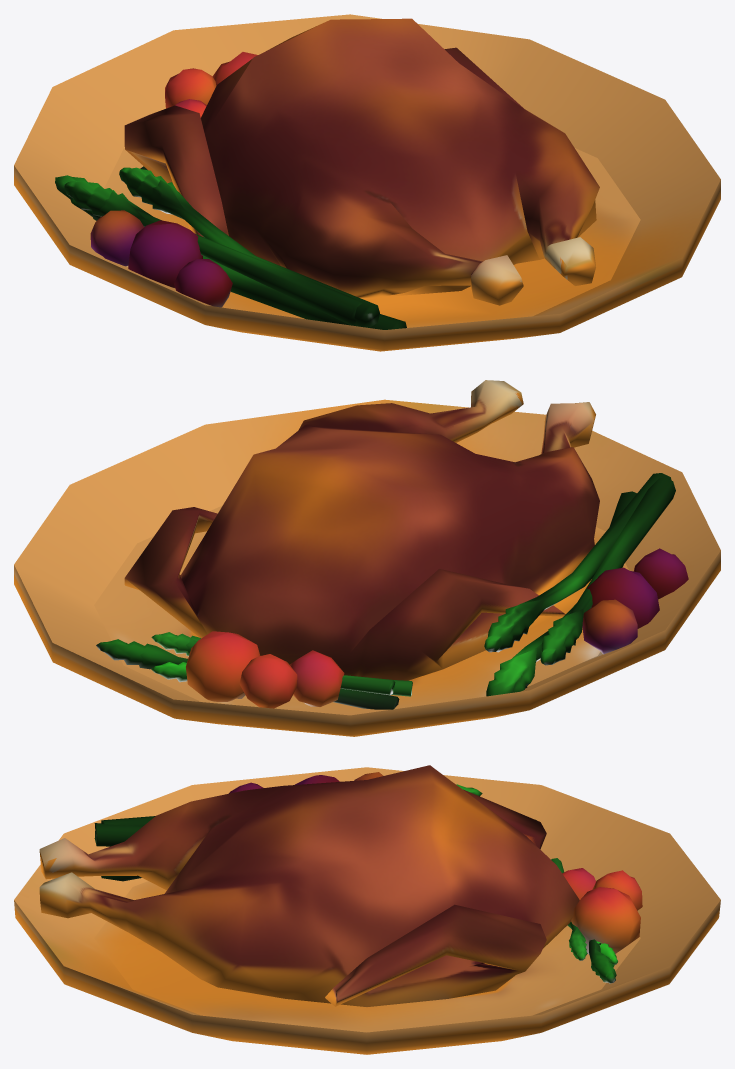
Rendered from Christmas_Goose.fbx.
The picture shows the model from 3 angles, top to bottom: view 1: azimuth 30°, elevation 25°; view 2: azimuth 150°, elevation 25°; view 3: azimuth 270°, elevation 25°; orthographic projection. The views are drawn at different scales.
Parts seen in each view (by area): view 1: Goose, AsparagusGroup2, polySurface4, Potato3, polySurface6, polySurface5; view 2: Goose, AsparagusGroup2, Potato3, polySurface3, polySurface4, polySurface6, polySurface5, polySurface1, polySurface2; view 3: Goose, Potato3, AsparagusGroup2, polySurface3, polySurface1.
Part boxes in pixels (box(x1,y1,x2,y2)): Goose: box(14, 14, 720, 351); AsparagusGroup2: box(55, 167, 406, 329); polySurface4: box(128, 220, 202, 287); Potato3: box(165, 52, 257, 117); polySurface6: box(90, 210, 143, 266); polySurface5: box(174, 259, 232, 307); Goose: box(14, 380, 720, 736); AsparagusGroup2: box(484, 473, 675, 696); Potato3: box(186, 631, 344, 708); polySurface3: box(96, 639, 399, 709); polySurface4: box(587, 567, 659, 628); polySurface6: box(582, 599, 637, 654); polySurface5: box(633, 548, 688, 599); polySurface1: box(151, 632, 395, 695); polySurface2: box(151, 662, 412, 696); Goose: box(14, 765, 720, 1054); Potato3: box(562, 868, 642, 954); AsparagusGroup2: box(94, 784, 536, 881); polySurface3: box(589, 939, 616, 983); polySurface1: box(551, 858, 587, 960).
Bounding box in the file's own units: 2.19 × 0.6456 × 2.47.
